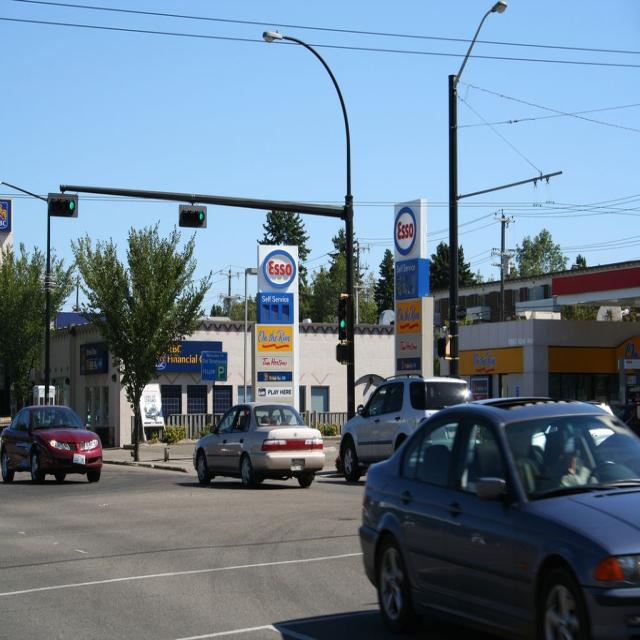esso: (261, 246, 300, 294), (395, 206, 423, 257)
